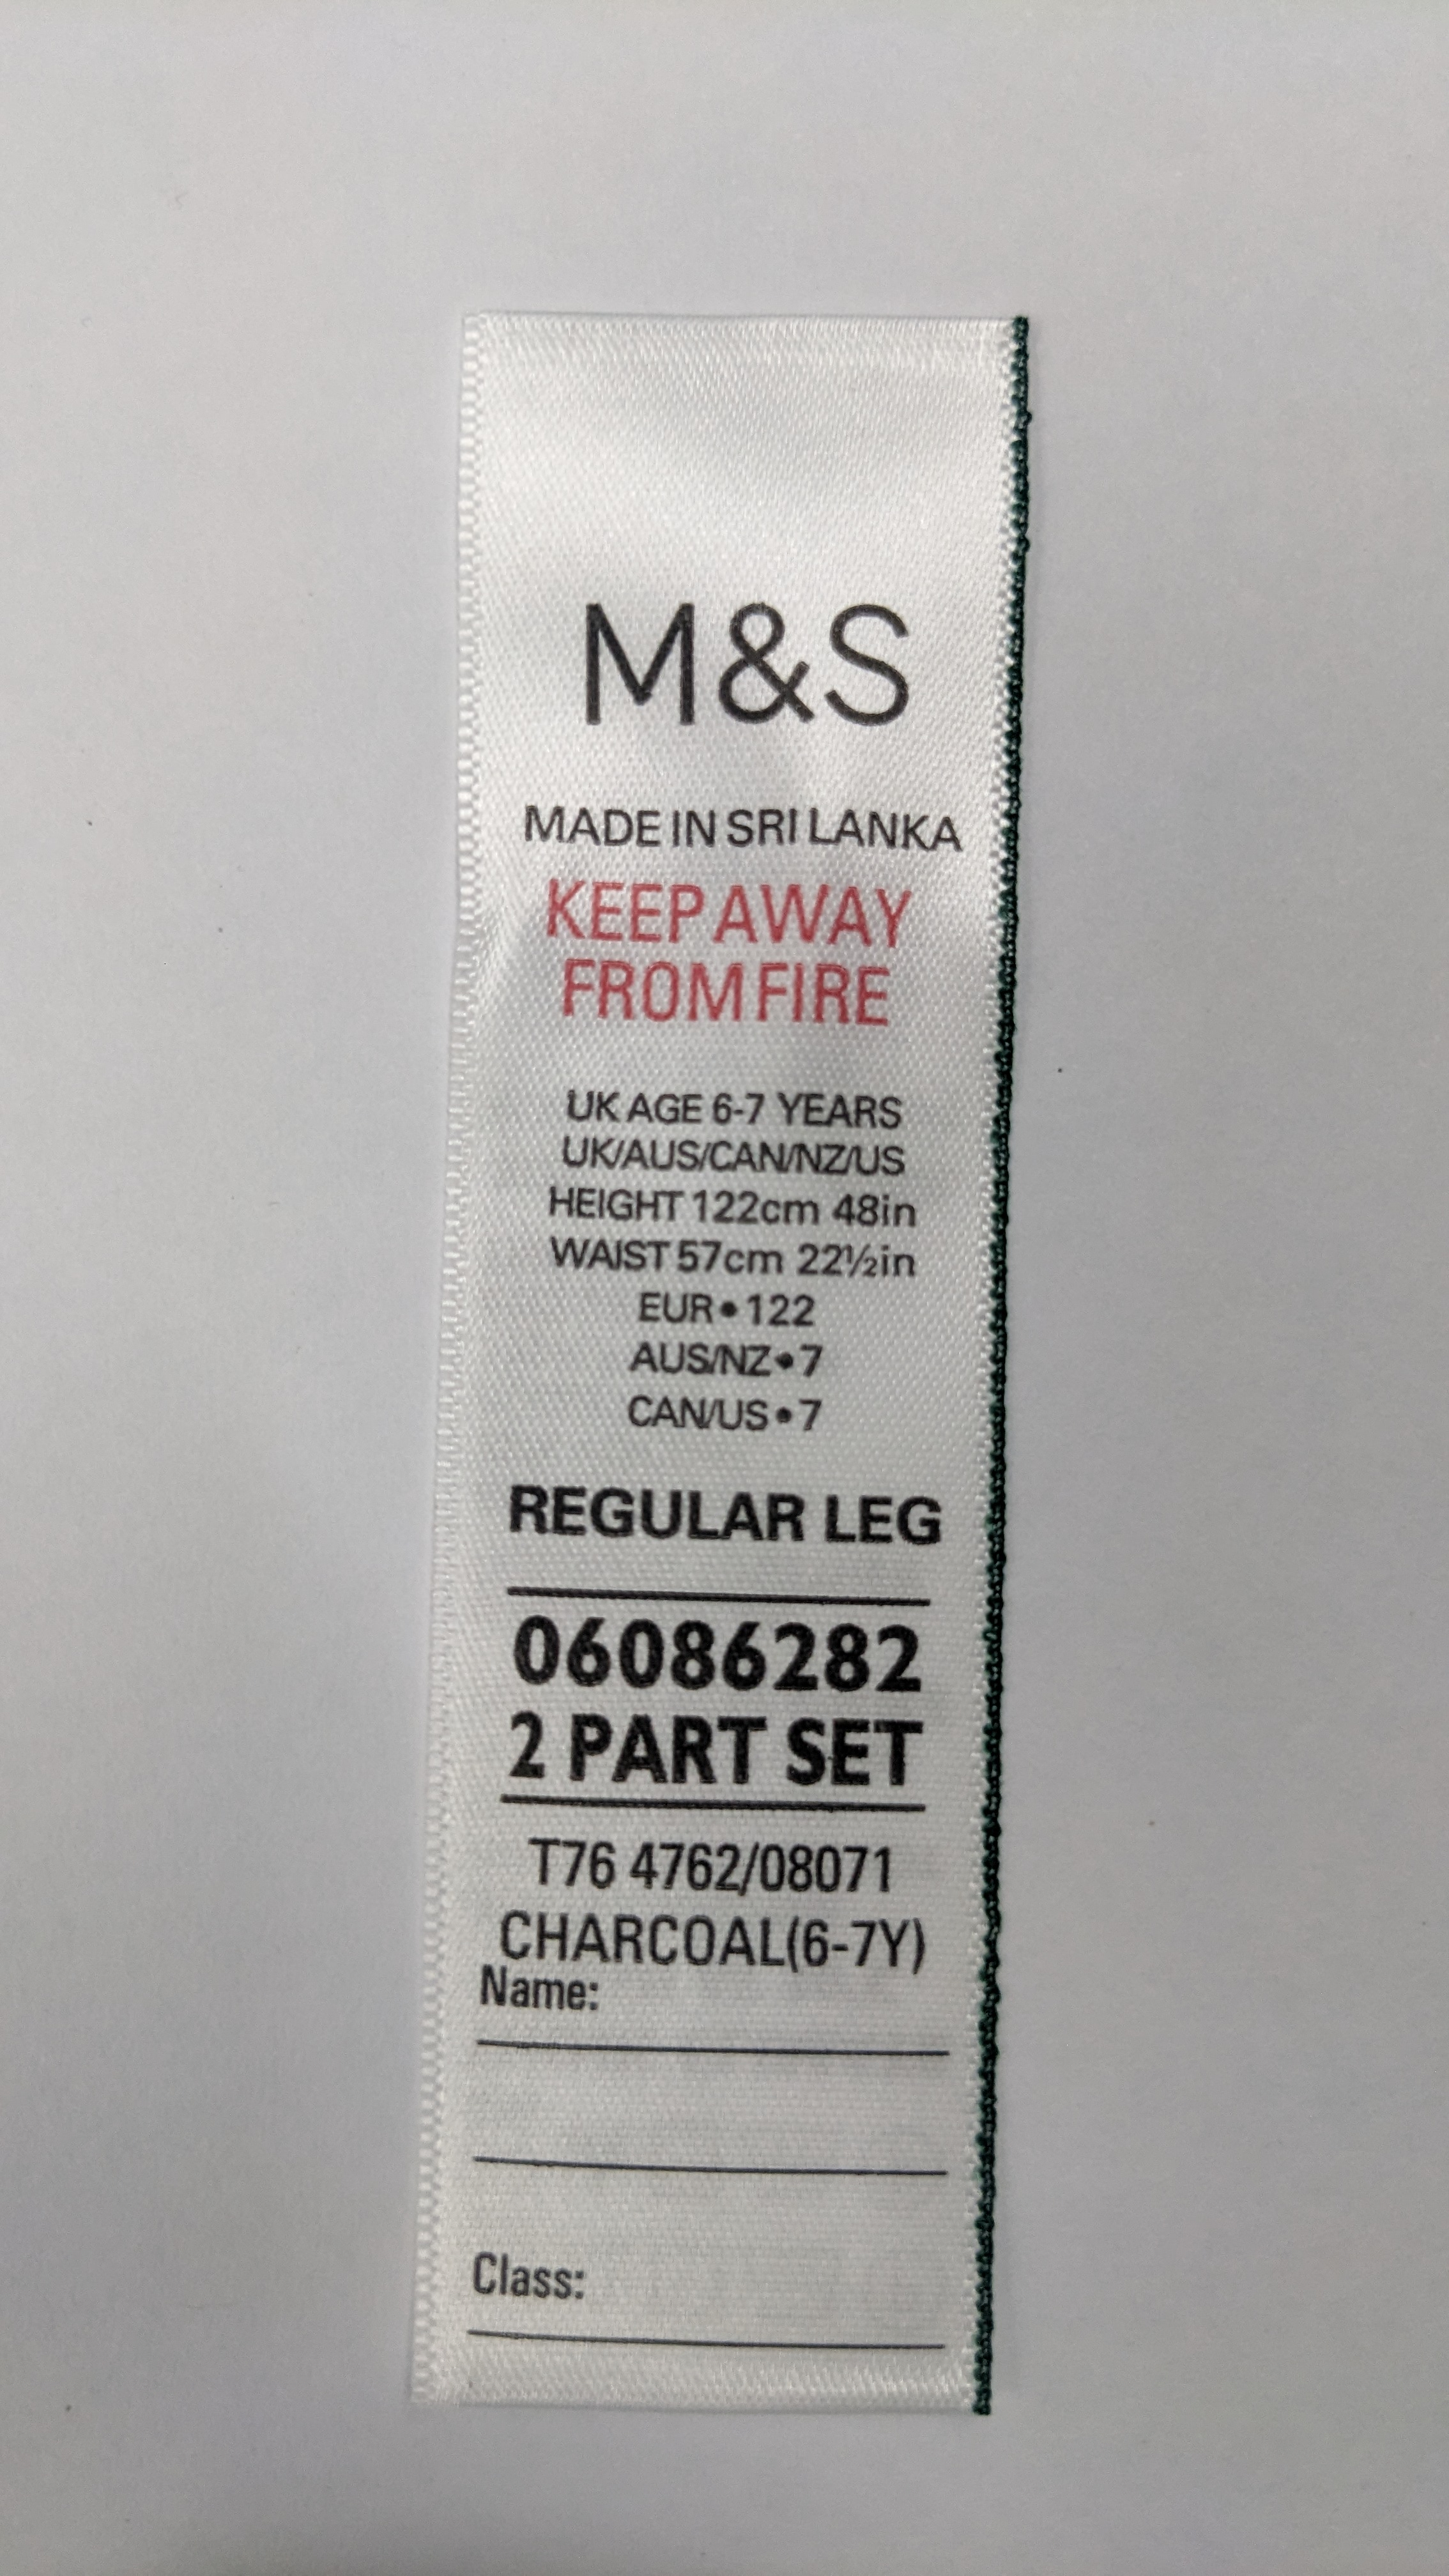Good_label: (419, 253, 1042, 2442)
